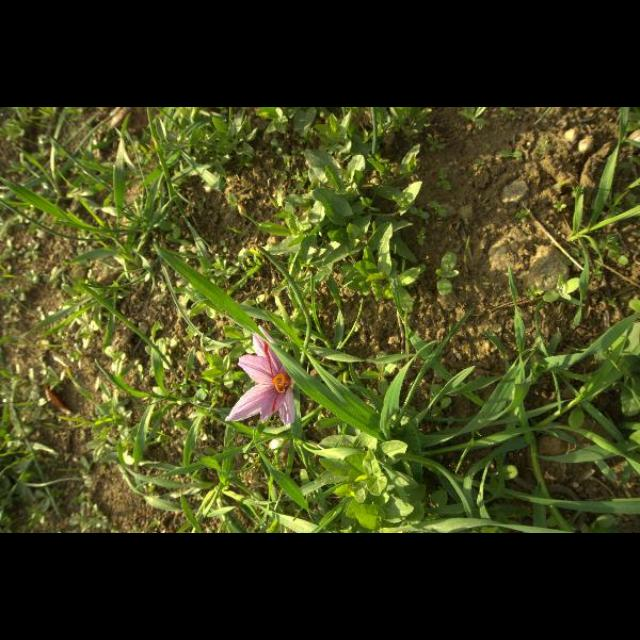flower: (223, 334, 293, 428)
